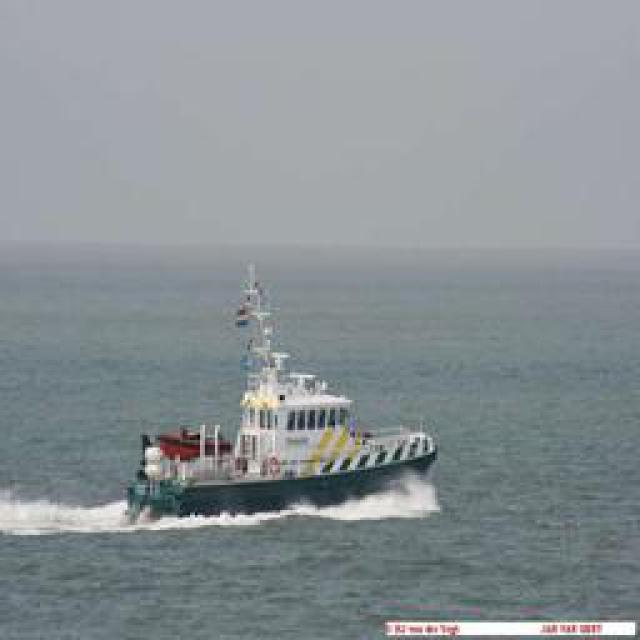Ship: (120, 261, 443, 531)
